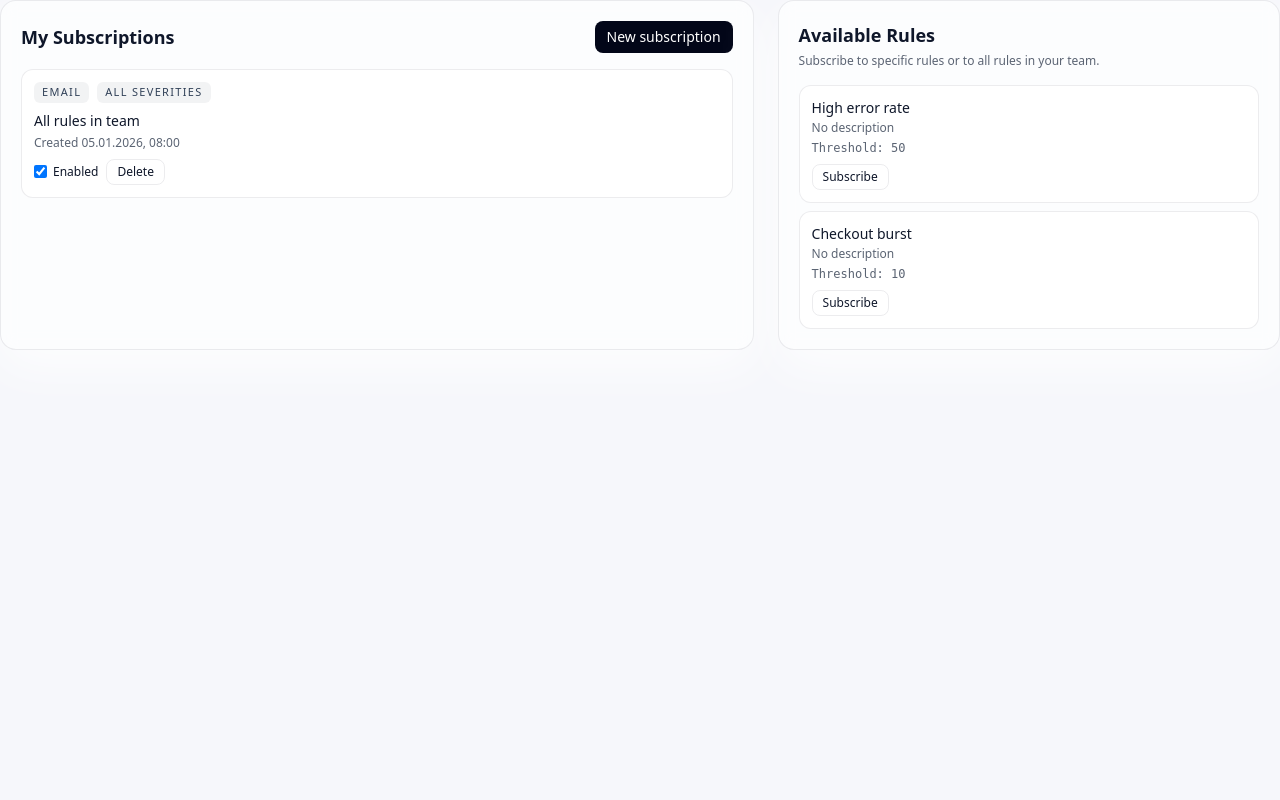
Scenario: delete › names a team-wide subscription as all rules in the team
Step 1. Click the button with aria-label "Delete EMAIL subscription" → (136, 172), box [106,158,165,184]
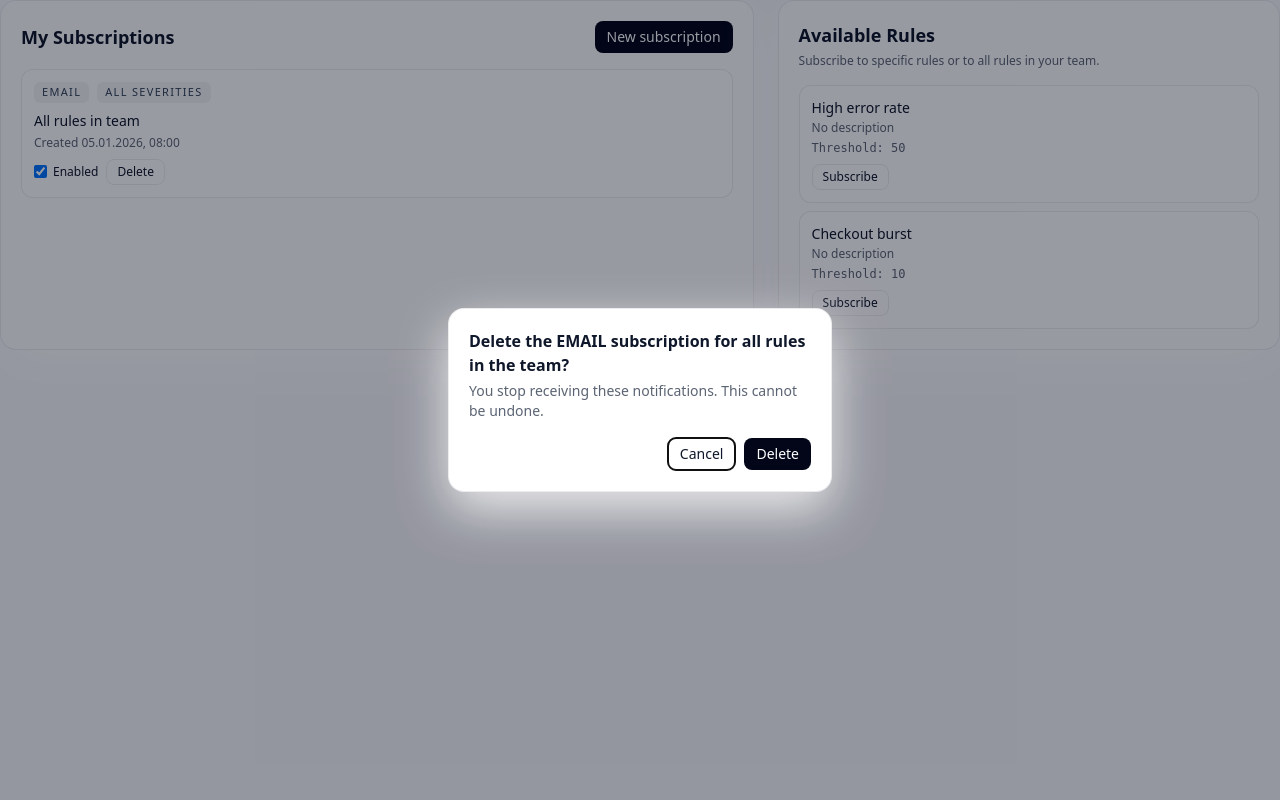
expect the heading "Delete the EMAIL subscription for all rules in the team?" is shown: met, box [469,329,811,377]
